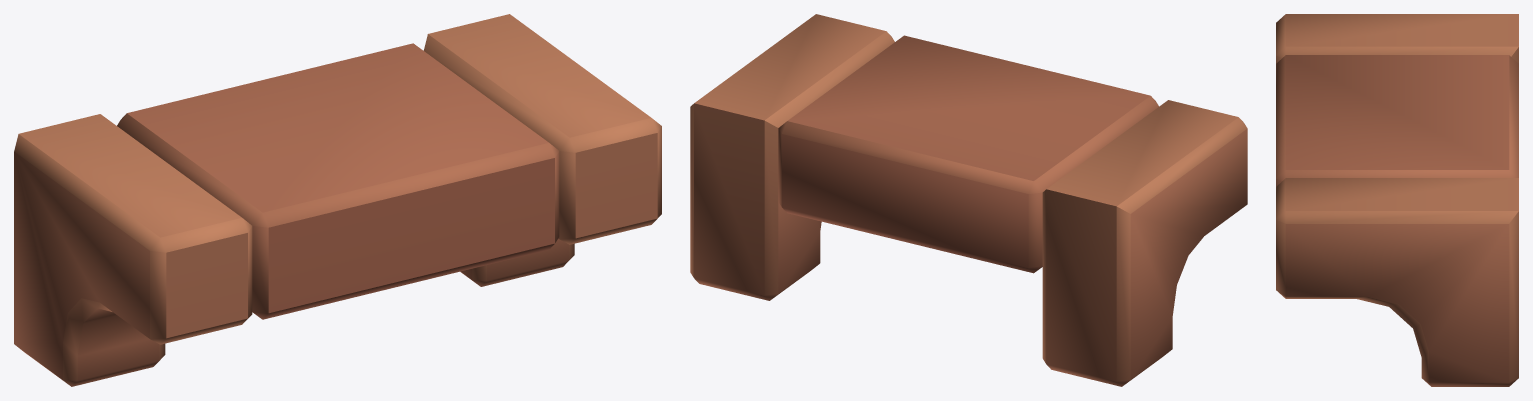
The model's file is kk_shelf.glb.
The picture shows the model from 3 angles, left to right: view 1: azimuth 30°, elevation 25°; view 2: azimuth 150°, elevation 25°; view 3: azimuth 270°, elevation 25°; orthographic projection. The views are drawn at different scales.
Visible parts, largest first — view 1: shelf_A_small; view 2: shelf_A_small; view 3: shelf_A_small.
Boxes of the visible parts, x1,y1,x2,y2 form: shelf_A_small: [14, 14, 661, 386]; shelf_A_small: [690, 14, 1247, 386]; shelf_A_small: [1276, 14, 1518, 386].
Bounding box in the file's own units: 1.5 × 0.5999 × 0.7501.
Materials: 1 (1 with a texture image).
